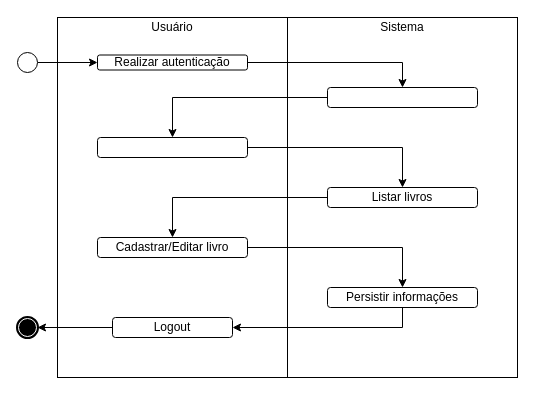
The diagram is 535 pixels wide and 395 high, and some of its shapes have lost their labels. Each missing label, with the centre of its shape:
Acessar listagem de livros: the point at 172,147
Validar autenticação: the point at 402,97
